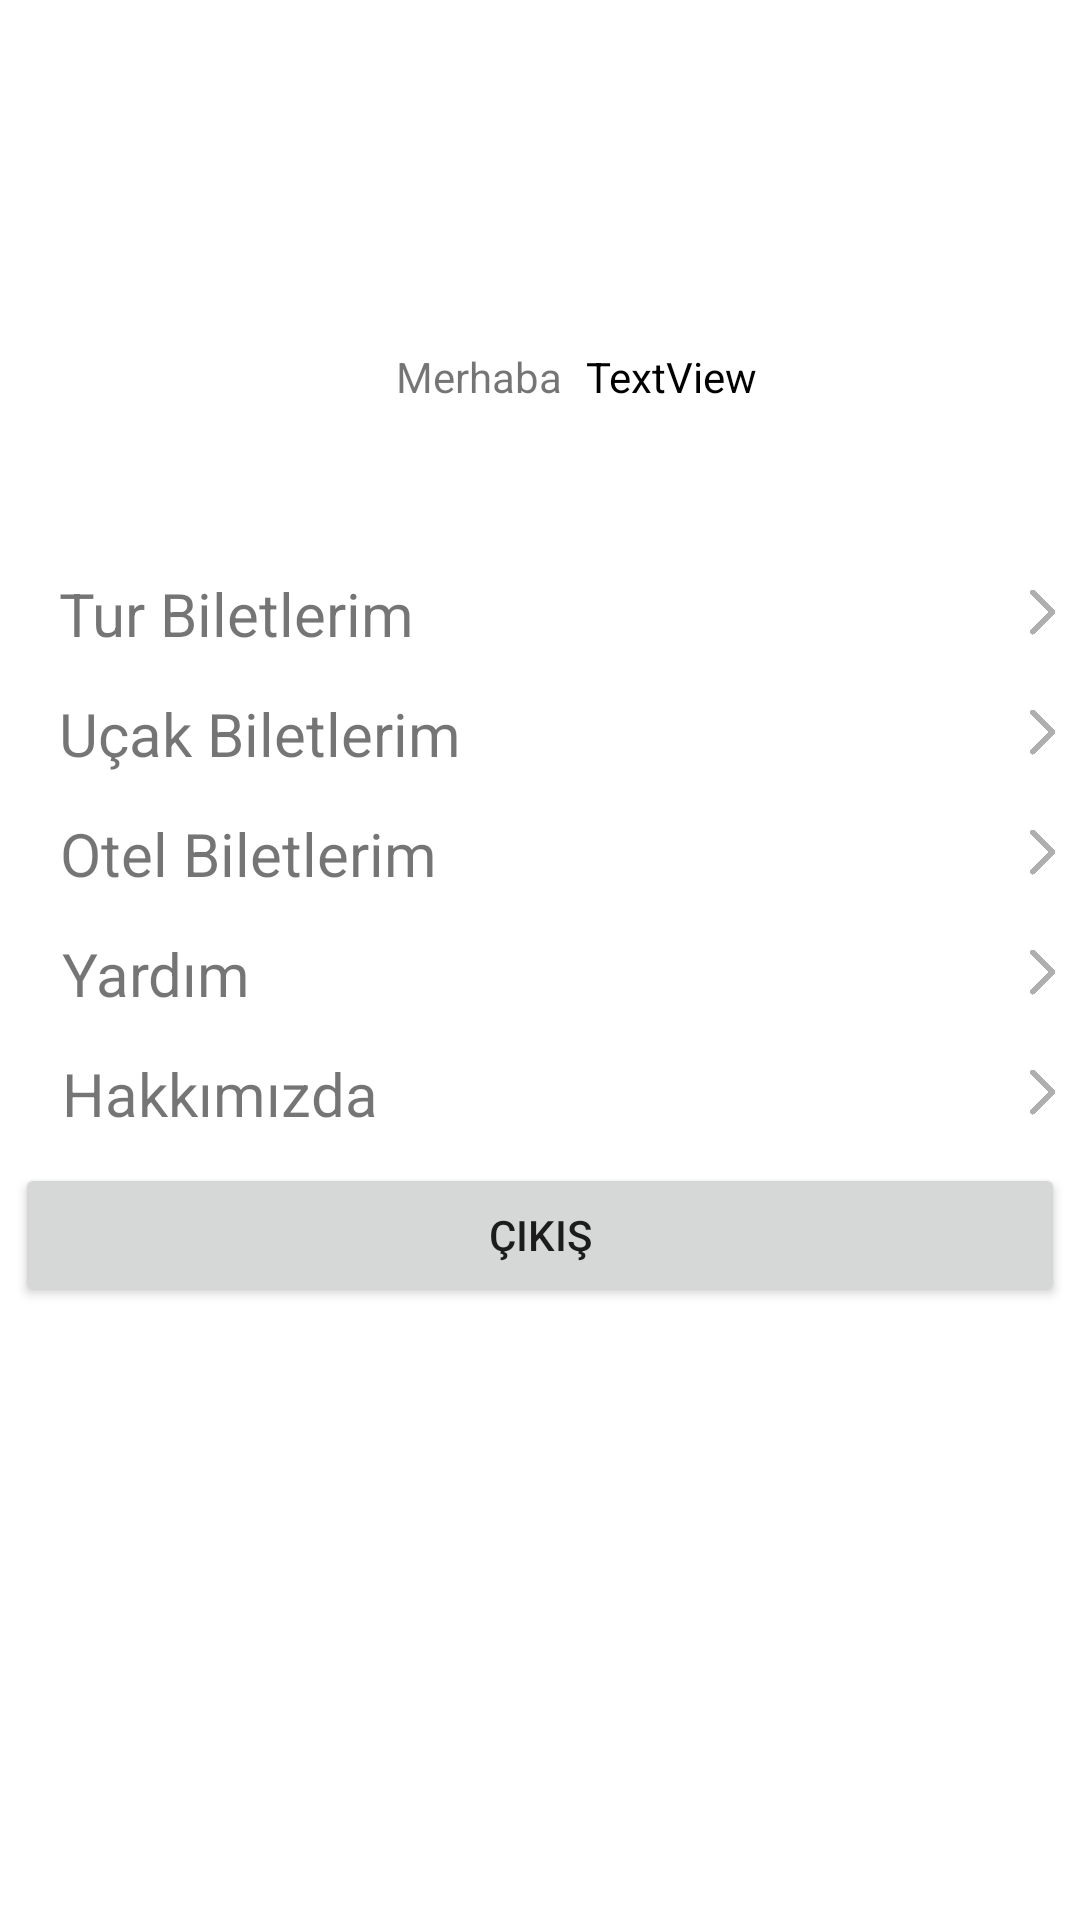

Icon click points for this 1080*1920 phone screenshot, format (x=x, y=y):
next: (x=1042, y=612), (x=1042, y=732), (x=1042, y=852), (x=1042, y=972), (x=1042, y=1092)
